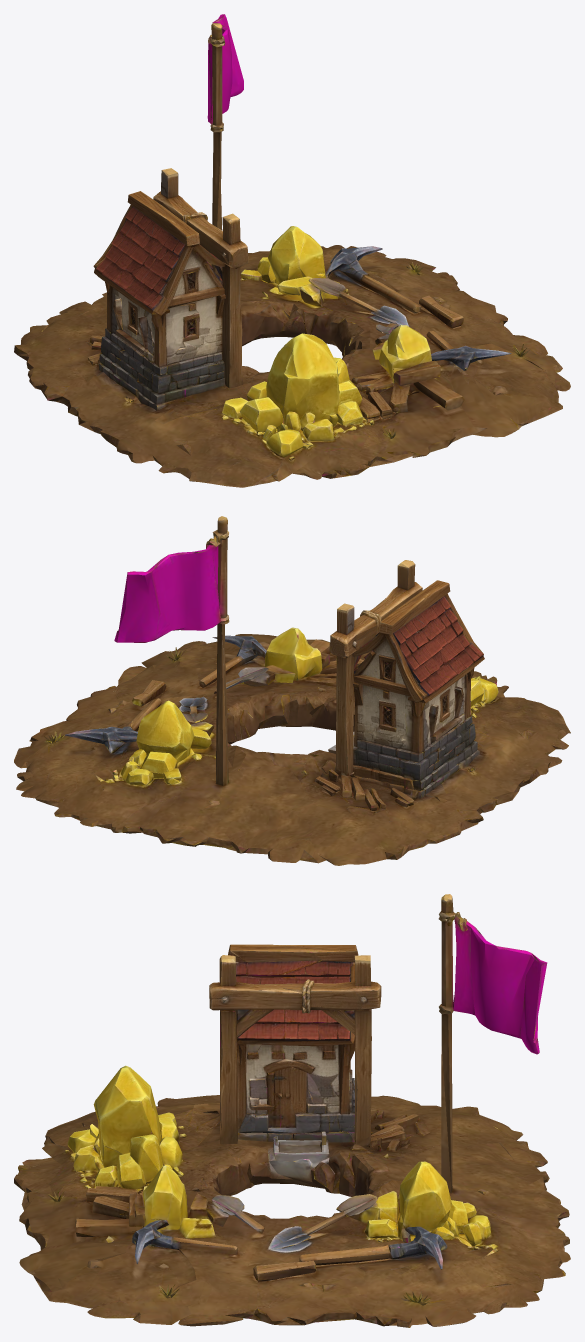
Rendered from sulfur_mine.glb.
The picture shows the model from 3 angles, top to bottom: view 1: azimuth 30°, elevation 25°; view 2: azimuth 150°, elevation 25°; view 3: azimuth 270°, elevation 25°; orthographic projection. The views are drawn at different scales.
Parts seen in each view (by area): view 1: Mesh_0; view 2: Mesh_0; view 3: Mesh_0.
Boxes of the visible parts, x1=… form: Mesh_0: x1=14, y1=14, x2=570, y2=487; Mesh_0: x1=14, y1=516, x2=570, y2=865; Mesh_0: x1=14, y1=894, x2=570, y2=1327.
Size of the model in its own units: 1.85 by 1.2 by 1.9.
1 material, 1 textured.
